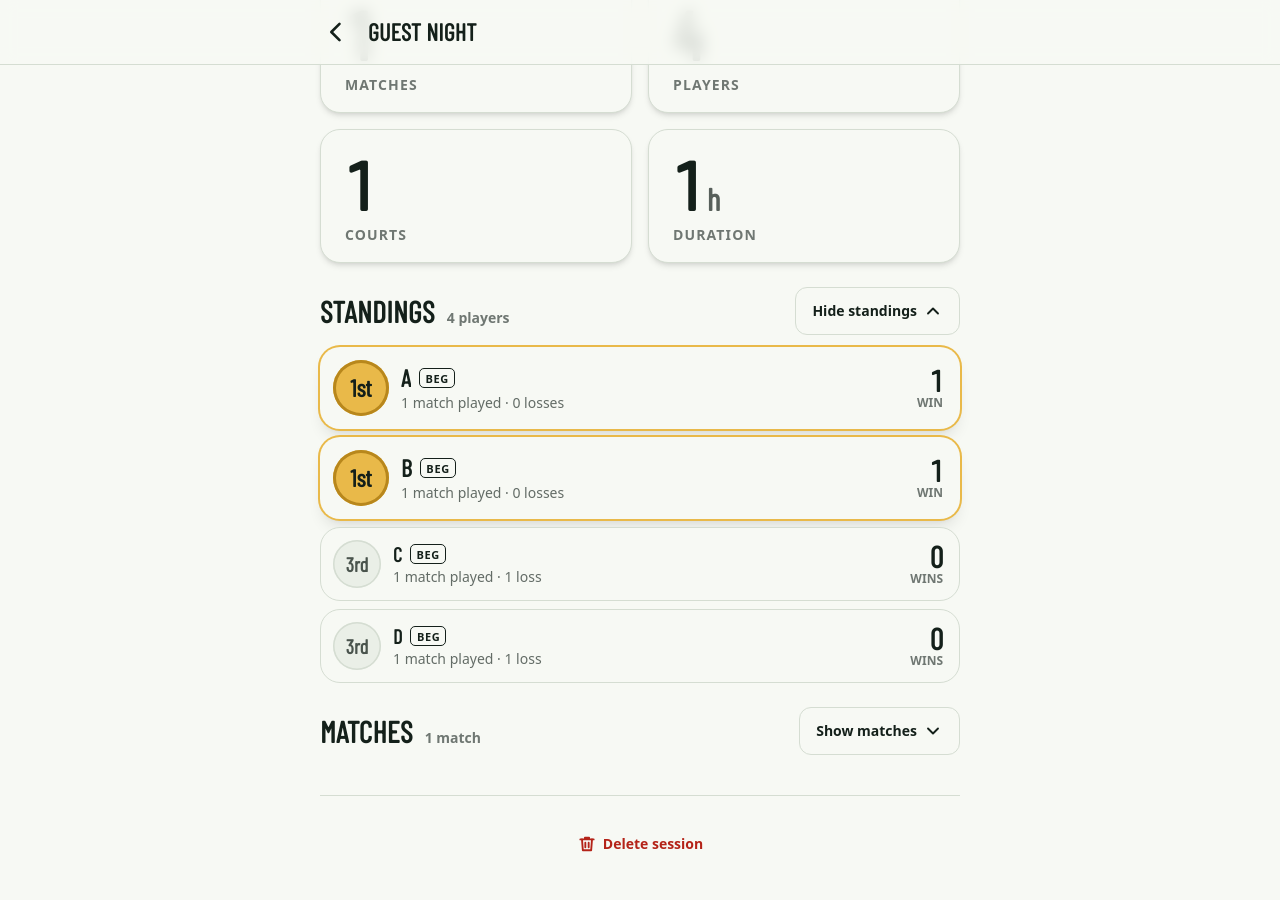
Test: Delete session: no Club or a Local club › asks first; Keep leaves it alone
This screenshot has width=1280, height=900.
(page scrolled)
Click the button "Delete session" at point(640, 844), box [320, 820, 960, 868]
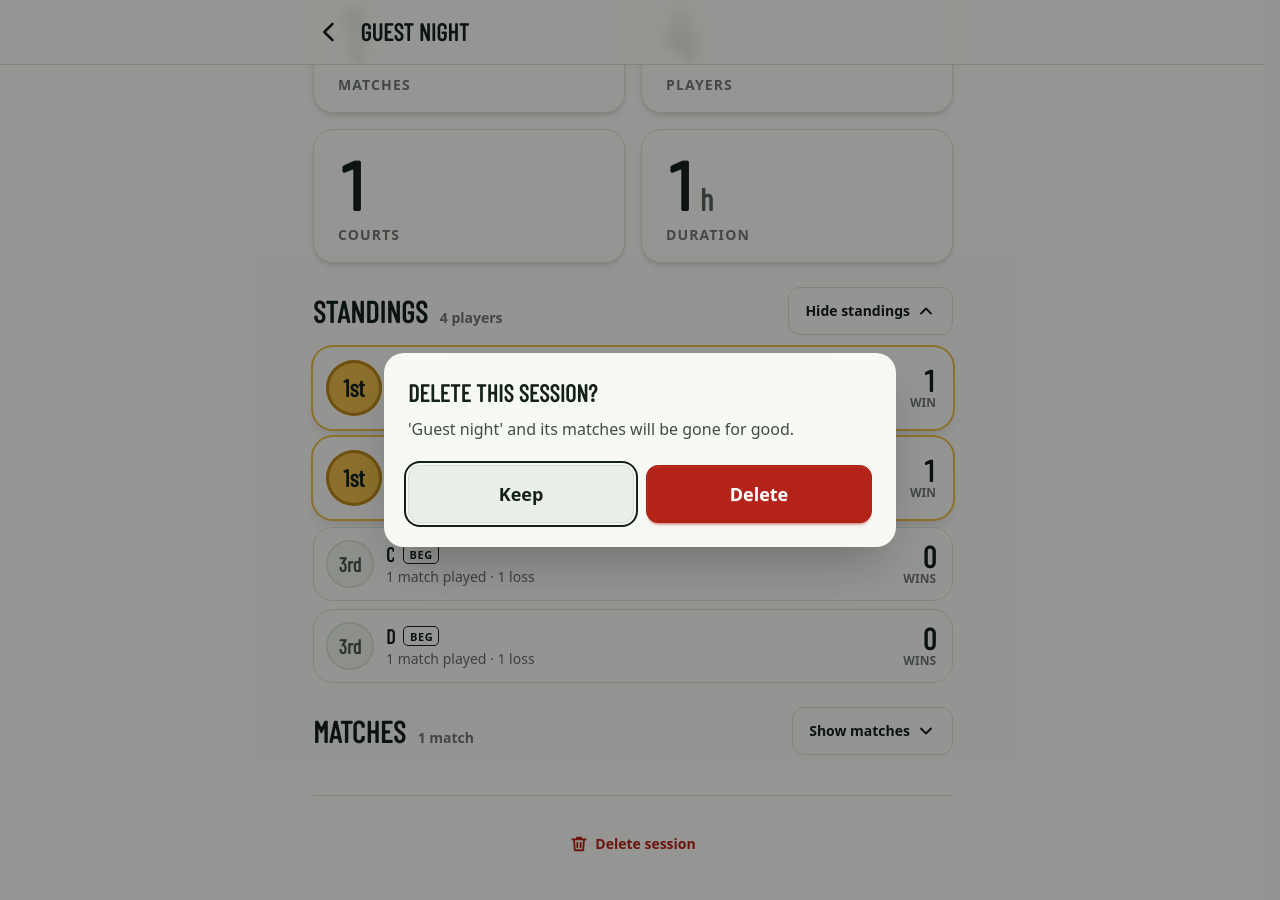
Click the button "Keep" at point(521, 494), box [408, 465, 634, 523]
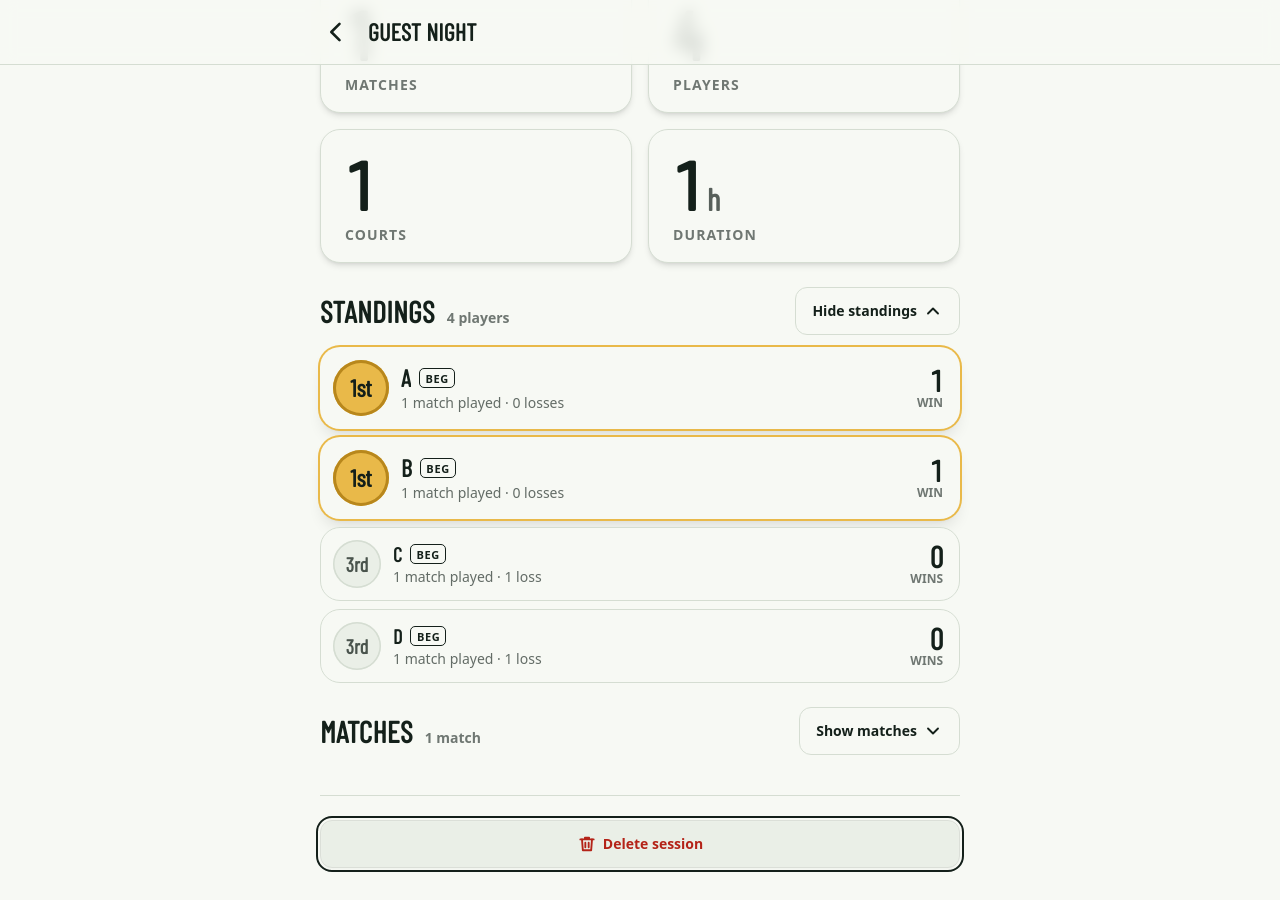
Result: the dialog is gone
